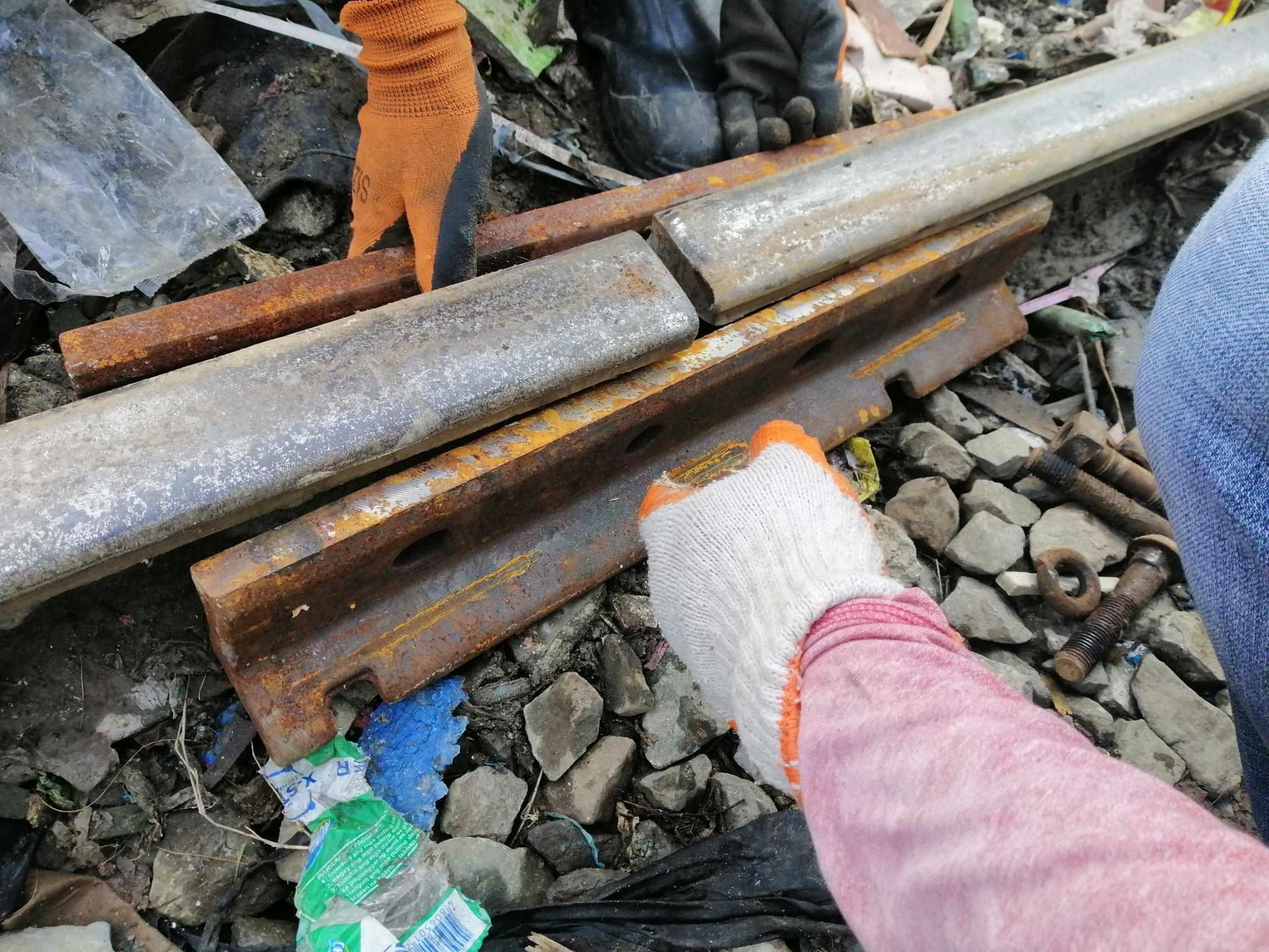railway-gap: (584, 180, 761, 360)
